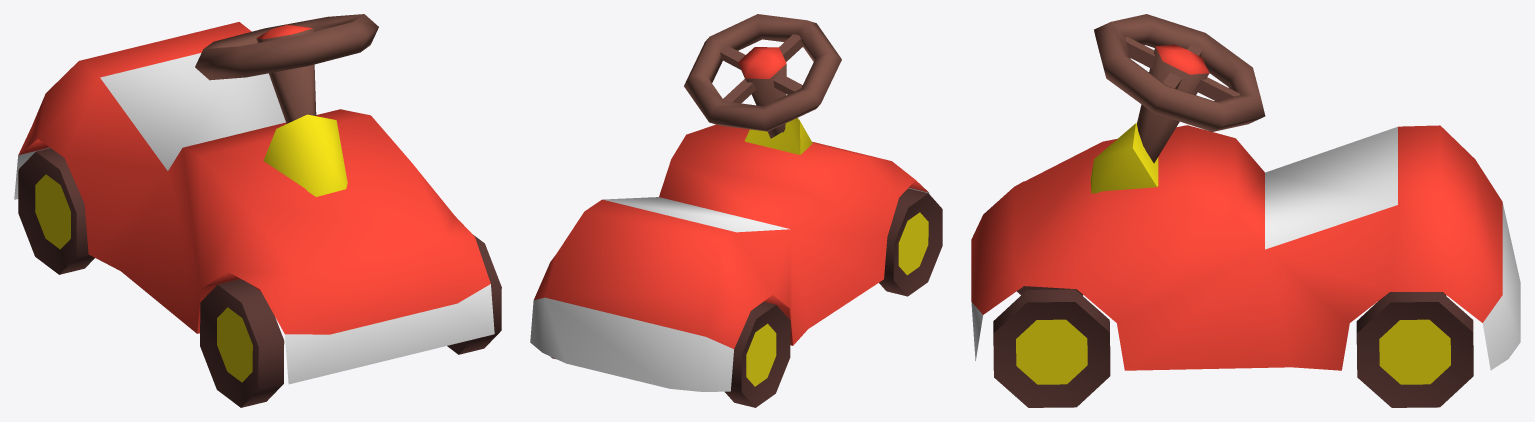
The model's file is SM_toy_001.FBX.
3 views of the same model, side by side, from view 1: azimuth 30°, elevation 25°; view 2: azimuth 150°, elevation 25°; view 3: azimuth 270°, elevation 25° (orthographic). The views are drawn at different scales.
Parts seen in each view (by area): view 1: SM_toy_001; view 2: SM_toy_001; view 3: SM_toy_001.
Boxes of the visible parts, bbox=[...] form: SM_toy_001: bbox=[14, 14, 501, 407]; SM_toy_001: bbox=[530, 14, 942, 407]; SM_toy_001: bbox=[971, 14, 1520, 407].
Size of the model in its own units: 30.26 by 59.02 by 37.67.
